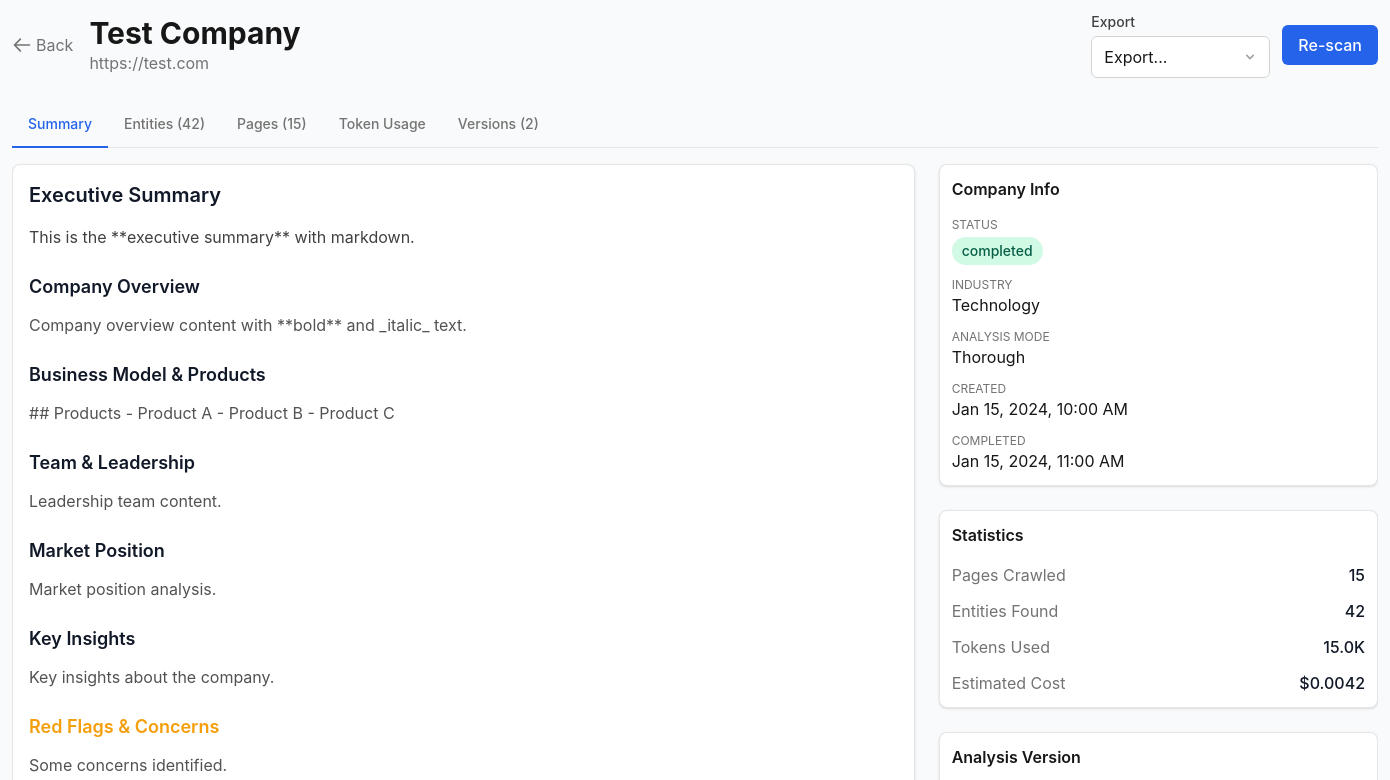
it: Versions Tab › shows version history when multiple versions exist
Note: Click versions tab
Click the tab "Versions (2)" at (498, 125), box x1=442 y1=102 x2=555 y2=148
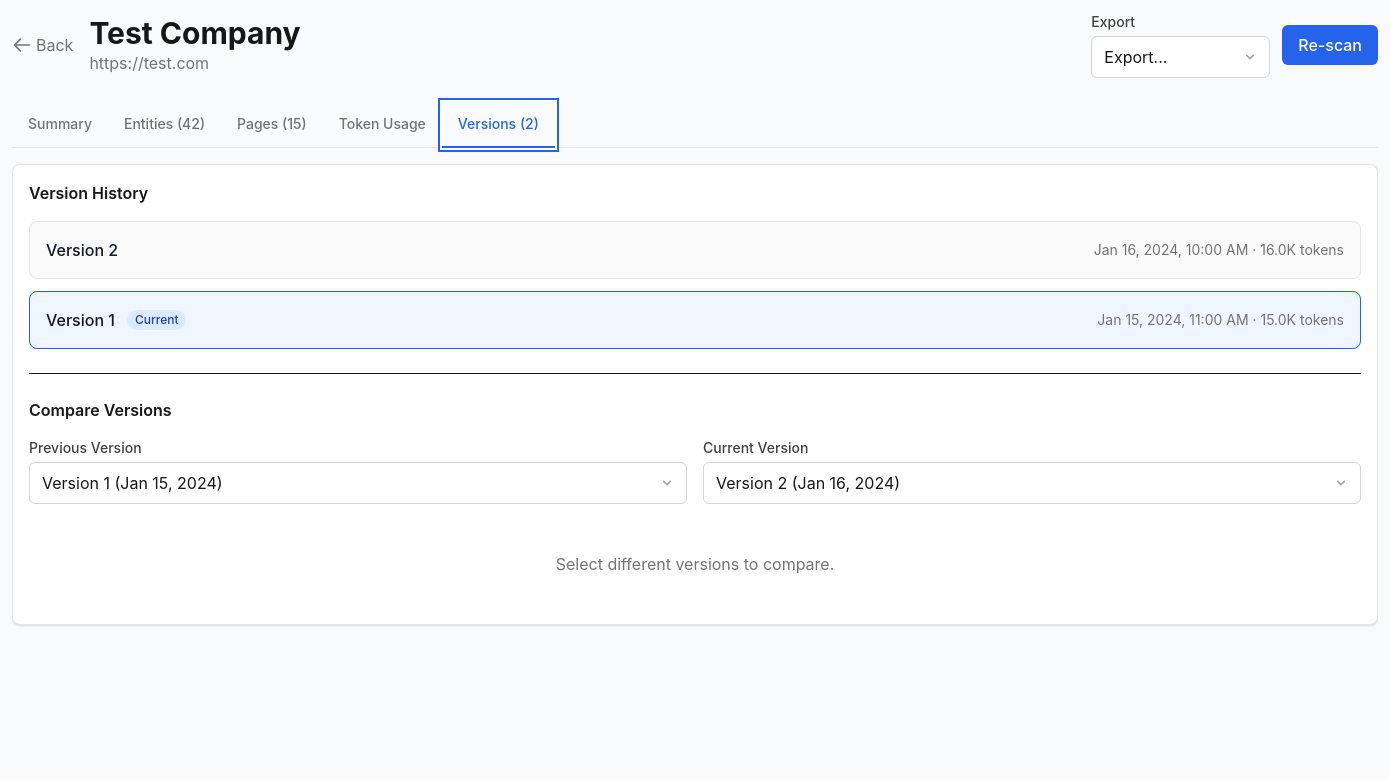
Check: the text "Version 1" is shown, box x1=46 y1=308 x2=115 y2=332
Check: the heading "Version History" is shown, box x1=29 y1=183 x2=148 y2=203
Check: the text "Version 2" is shown, box x1=46 y1=238 x2=118 y2=262
